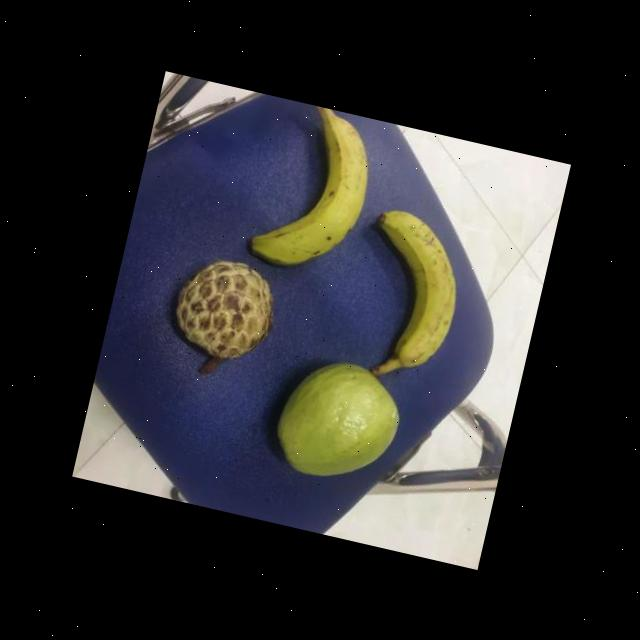Sakya fruit: (160, 252, 283, 386)
banana: (246, 99, 384, 282), (338, 212, 468, 392)
guava: (266, 350, 407, 496)
